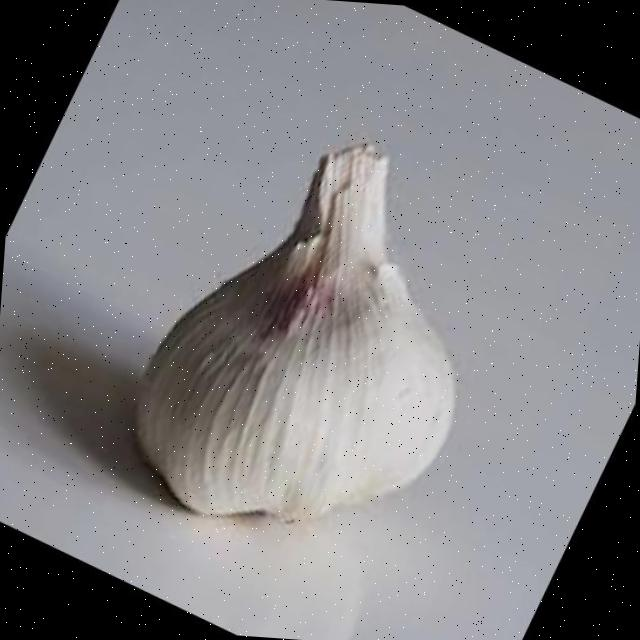garlic: (137, 143, 454, 520)
